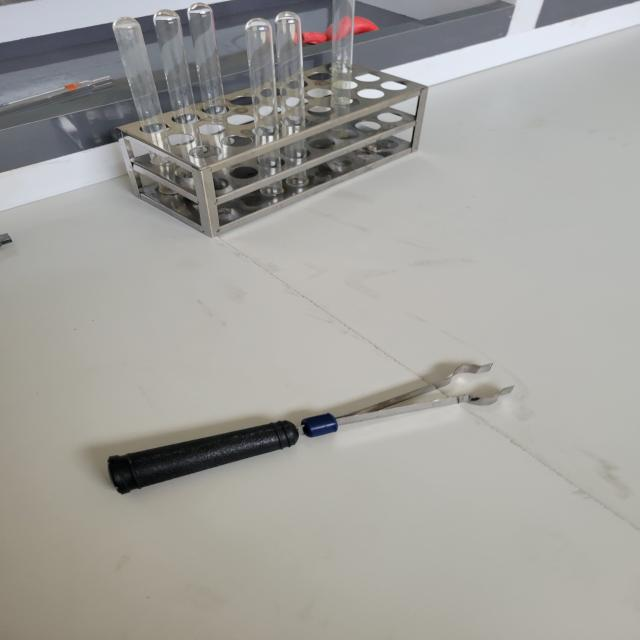TestTube_Holder: (77, 348, 529, 506)
Test_Tube: (64, 0, 466, 240)
